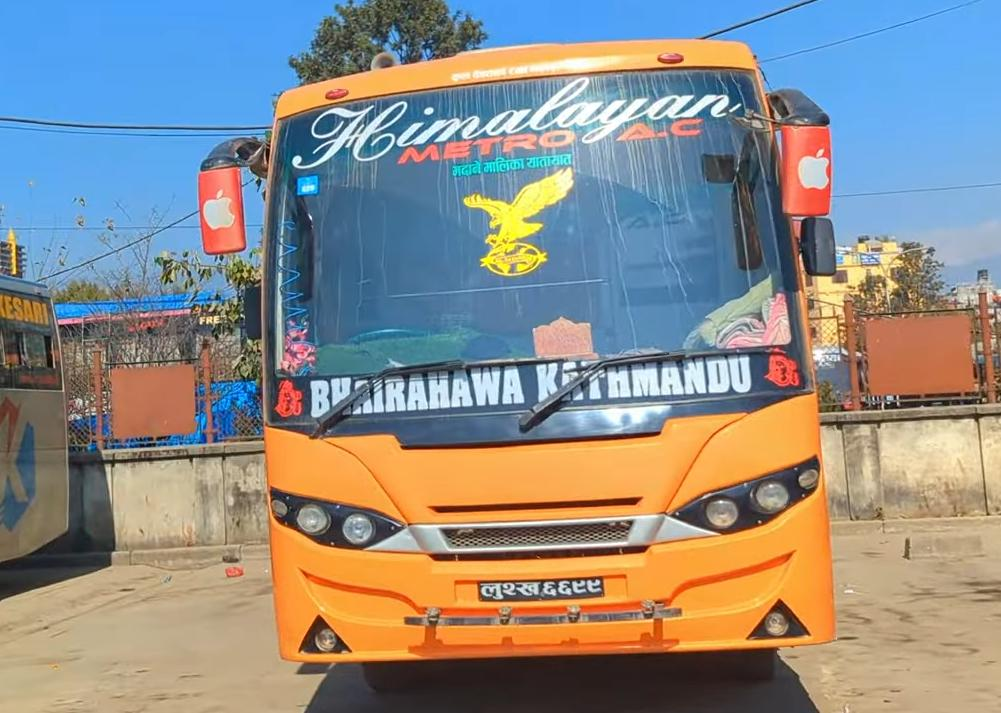bus: (195, 28, 842, 684)
